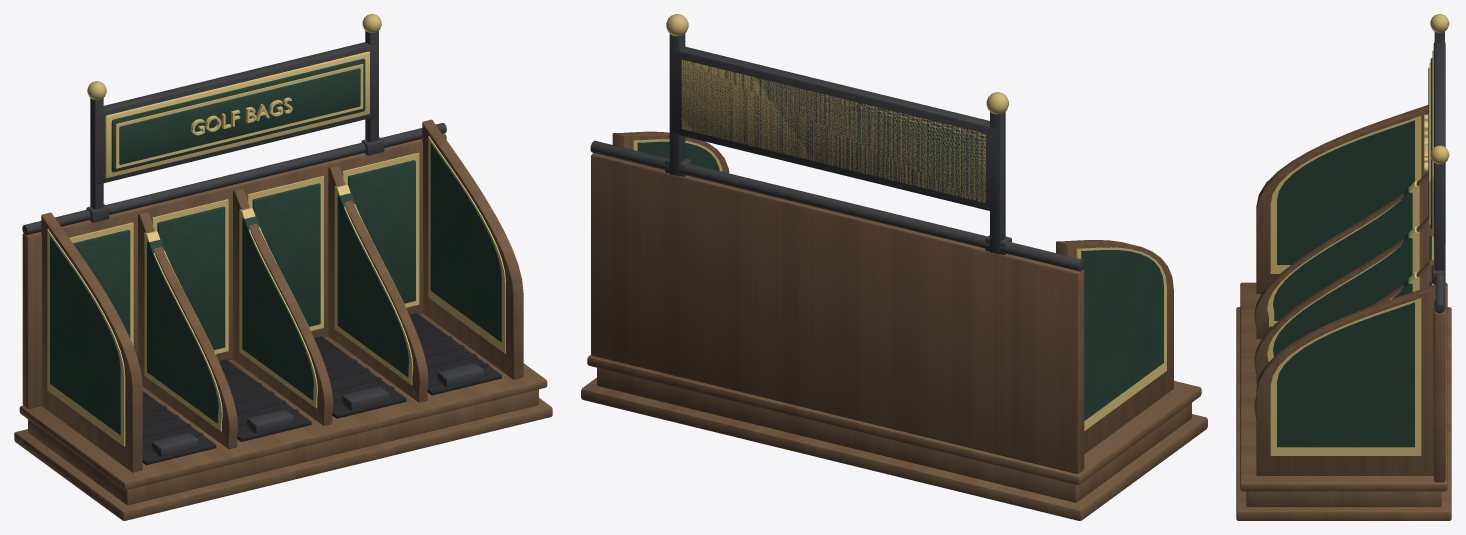
File: bag_rack.glb
3 renders of one model, left to right at view 1: azimuth 30°, elevation 25°; view 2: azimuth 150°, elevation 25°; view 3: azimuth 270°, elevation 25°, orthographic. The views are drawn at different scales.
Visible parts, largest first — view 1: bag_rack_body; view 2: bag_rack_body; view 3: bag_rack_body.
Boxes of the visible parts, x1,y1,x2,y2 form: bag_rack_body: [14, 14, 552, 520]; bag_rack_body: [581, 14, 1207, 520]; bag_rack_body: [1236, 14, 1451, 520].
Size of what is drawn, in the model's own units: 1.22 by 0.936 by 0.54.
Materials: 6 (3 with a texture image).
